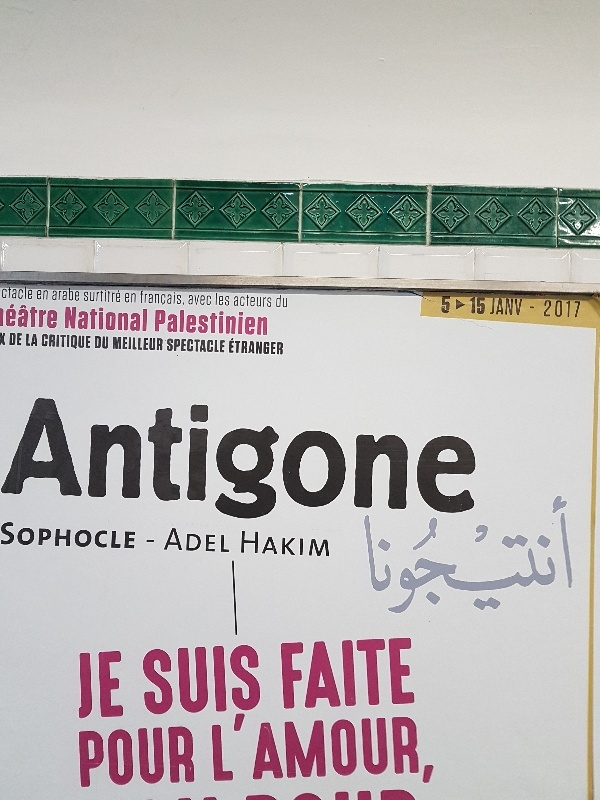text: (17, 389, 32, 523), (33, 389, 48, 523), (49, 389, 64, 523), (65, 389, 80, 523), (81, 389, 96, 523), (97, 389, 112, 523), (113, 389, 128, 523), (129, 389, 144, 523), (145, 389, 160, 523), (161, 389, 176, 523), (177, 389, 192, 523), (193, 389, 208, 523), (209, 389, 224, 523), (225, 389, 240, 523), (241, 389, 256, 523), (257, 389, 272, 523), (273, 389, 288, 523), (289, 389, 304, 523), (305, 389, 320, 523), (321, 389, 336, 523), (337, 389, 352, 523), (353, 389, 368, 523), (369, 389, 384, 523), (385, 389, 400, 523), (401, 389, 416, 523), (417, 389, 432, 523), (433, 389, 448, 523), (449, 389, 464, 523), (465, 389, 480, 523), (369, 494, 384, 617), (385, 494, 400, 617), (401, 494, 416, 617), (417, 494, 432, 617), (433, 494, 448, 617), (449, 494, 464, 617), (465, 494, 480, 617), (481, 494, 496, 617), (497, 494, 512, 617), (513, 494, 528, 617), (529, 494, 544, 617), (545, 494, 560, 617), (561, 494, 576, 617), (5, 389, 16, 523), (225, 701, 240, 789), (241, 701, 256, 789), (257, 701, 272, 789), (273, 701, 288, 789), (289, 701, 304, 789), (305, 701, 320, 789), (321, 701, 336, 789), (337, 701, 352, 789), (353, 701, 368, 789), (369, 701, 384, 789), (385, 701, 400, 789), (401, 701, 416, 789), (417, 701, 432, 789), (210, 701, 224, 789), (289, 636, 304, 714), (305, 636, 320, 714), (321, 636, 336, 714), (337, 636, 352, 714), (353, 636, 368, 714), (369, 636, 384, 714), (385, 636, 400, 714), (401, 636, 416, 714), (81, 646, 96, 722), (97, 646, 112, 722), (113, 646, 128, 722), (145, 644, 160, 720), (161, 644, 176, 720), (177, 644, 192, 720), (193, 644, 208, 720), (209, 644, 224, 720), (225, 644, 240, 720), (241, 644, 256, 720), (359, 494, 368, 617), (275, 636, 288, 714), (81, 725, 96, 789), (97, 725, 112, 789), (113, 725, 128, 789), (129, 725, 144, 789), (145, 725, 160, 789), (161, 725, 176, 789), (177, 725, 192, 789), (433, 701, 442, 789), (1, 521, 16, 552), (17, 521, 32, 552), (33, 521, 48, 552), (49, 521, 64, 552), (65, 521, 80, 552), (81, 521, 96, 552), (97, 521, 112, 552), (113, 521, 128, 552), (241, 529, 256, 559), (257, 529, 272, 559), (273, 529, 288, 559), (289, 529, 304, 559), (305, 529, 320, 559), (177, 526, 192, 556), (193, 526, 208, 556), (209, 526, 224, 556), (17, 303, 32, 331), (33, 303, 48, 331), (65, 306, 80, 333), (81, 306, 96, 333), (97, 306, 112, 333), (113, 306, 128, 333), (129, 306, 144, 333), (161, 309, 176, 336), (177, 309, 192, 336), (193, 309, 208, 336), (209, 309, 224, 336), (225, 309, 240, 336), (241, 309, 256, 336), (75, 646, 80, 722), (257, 644, 262, 720), (164, 526, 176, 556), (257, 309, 269, 336), (140, 644, 144, 720), (321, 529, 331, 559), (497, 297, 512, 317), (6, 303, 16, 331), (49, 303, 59, 331), (545, 300, 560, 318), (561, 300, 576, 318), (241, 338, 256, 356), (257, 338, 272, 356), (49, 333, 64, 351), (65, 333, 80, 351), (481, 389, 483, 523), (193, 725, 197, 789), (145, 289, 160, 306), (161, 289, 176, 306), (577, 494, 579, 617), (65, 287, 81, 302), (177, 338, 192, 354), (193, 338, 208, 354), (209, 338, 224, 354), (17, 286, 32, 301), (113, 337, 128, 352), (129, 337, 144, 352), (145, 337, 160, 352), (513, 297, 524, 317), (129, 521, 136, 552), (228, 338, 240, 356), (273, 338, 285, 356), (193, 293, 208, 307), (97, 289, 112, 303), (2, 286, 16, 301), (257, 295, 273, 308), (470, 296, 480, 316), (81, 333, 92, 351), (2, 333, 16, 347), (275, 294, 288, 309), (241, 295, 256, 308), (77, 725, 80, 789), (83, 289, 96, 303), (97, 336, 110, 350), (225, 526, 231, 556), (52, 287, 64, 302), (145, 306, 151, 333), (417, 636, 419, 714), (129, 646, 131, 722), (167, 338, 176, 354), (113, 289, 123, 303), (177, 289, 185, 306), (155, 309, 160, 336), (215, 292, 224, 307), (37, 290, 48, 301), (442, 296, 448, 314), (42, 333, 48, 351), (529, 304, 544, 311), (491, 297, 496, 317), (481, 296, 486, 316), (9, 333, 16, 347), (129, 292, 137, 304), (233, 295, 240, 308), (577, 300, 582, 318), (225, 292, 231, 307), (139, 289, 144, 306), (26, 333, 32, 347), (17, 333, 23, 347), (33, 333, 38, 347), (146, 539, 160, 544), (209, 293, 213, 307), (62, 306, 64, 333), (161, 337, 164, 352), (189, 293, 192, 307), (449, 296, 451, 314), (125, 292, 128, 304), (225, 338, 226, 354), (289, 294, 290, 309), (33, 286, 34, 301), (95, 336, 96, 350), (49, 290, 50, 301)
